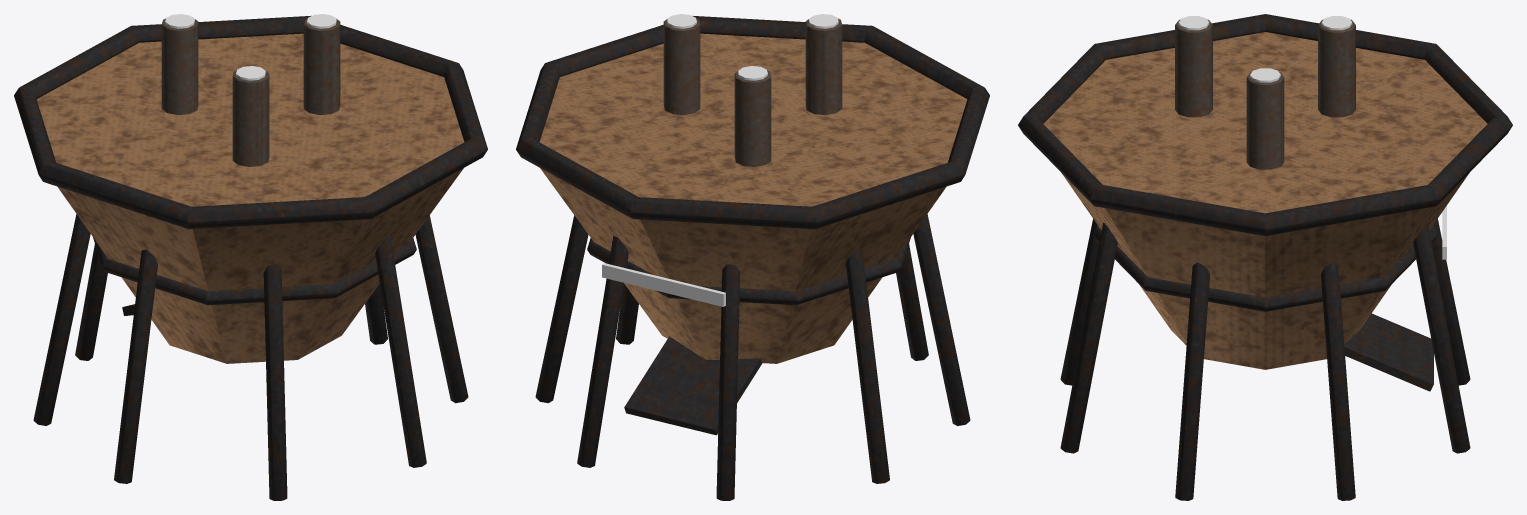
File: Ferrocefalos_Dropship.fbx
3 renders of one model, left to right at view 1: azimuth 30°, elevation 25°; view 2: azimuth 150°, elevation 25°; view 3: azimuth 270°, elevation 25°, orthographic.
Parts seen in each view (by area): view 1: Body, BodyBrillo; view 2: Body, BodyBrillo; view 3: Body, BodyBrillo.
Part boxes in pixels (left/top/right/bottom): Body: left=14, top=15, right=487, bottom=500; BodyBrillo: left=165, top=14, right=336, bottom=80; Body: left=516, top=15, right=989, bottom=500; BodyBrillo: left=602, top=14, right=838, bottom=306; Body: left=1018, top=14, right=1512, bottom=500; BodyBrillo: left=1178, top=16, right=1446, bottom=259.
Bounding box in the file's own units: 2097 × 1767 × 2097.
